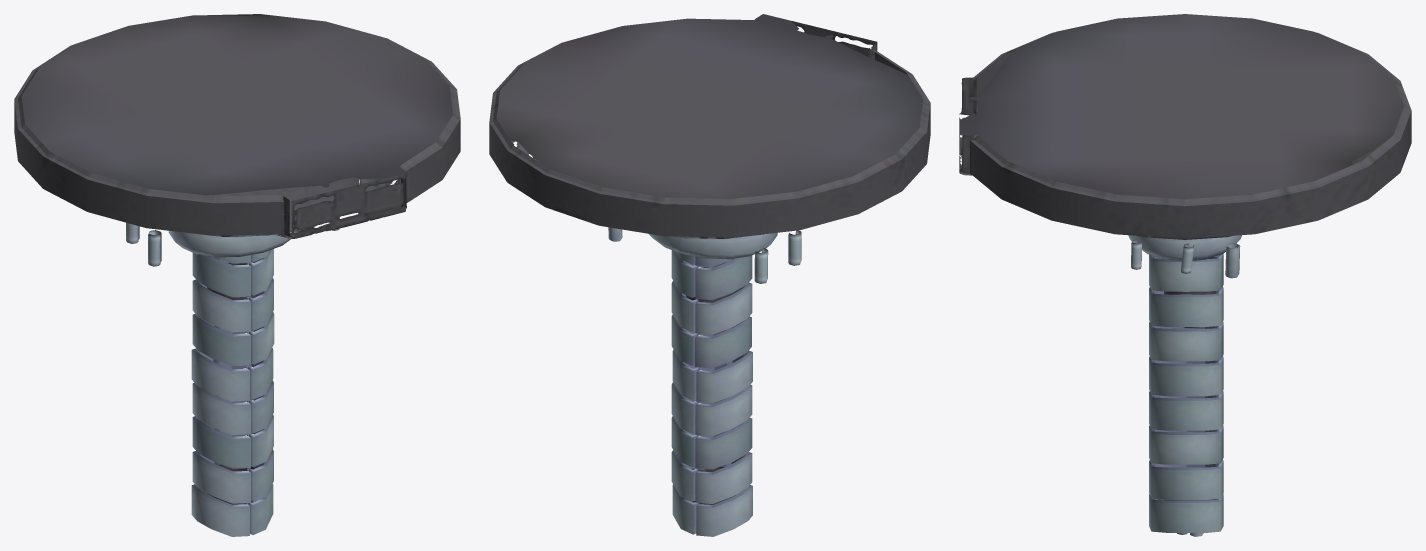
Rendered from sm23_037_attachment01a.fbx.
3 views of the same model, side by side, from view 1: azimuth 30°, elevation 25°; view 2: azimuth 150°, elevation 25°; view 3: azimuth 270°, elevation 25° (orthographic). The views are drawn at different scales.
Parts seen in each view (by area): view 1: LOD_1_Group_0_Sub_1__sm23_037_Attachment01A_A_Mat__Env_Defau; view 2: LOD_1_Group_0_Sub_1__sm23_037_Attachment01A_A_Mat__Env_Defau; view 3: LOD_1_Group_0_Sub_1__sm23_037_Attachment01A_A_Mat__Env_Defau.
Boxes of the visible parts, x1,y1,x2,y2 form: LOD_1_Group_0_Sub_1__sm23_037_Attachment01A_A_Mat__Env_Defau: [14, 14, 460, 536]; LOD_1_Group_0_Sub_1__sm23_037_Attachment01A_A_Mat__Env_Defau: [489, 14, 930, 536]; LOD_1_Group_0_Sub_1__sm23_037_Attachment01A_A_Mat__Env_Defau: [959, 14, 1411, 536].
Bounding box in the file's own units: 2.3 × 2.37 × 2.3.
